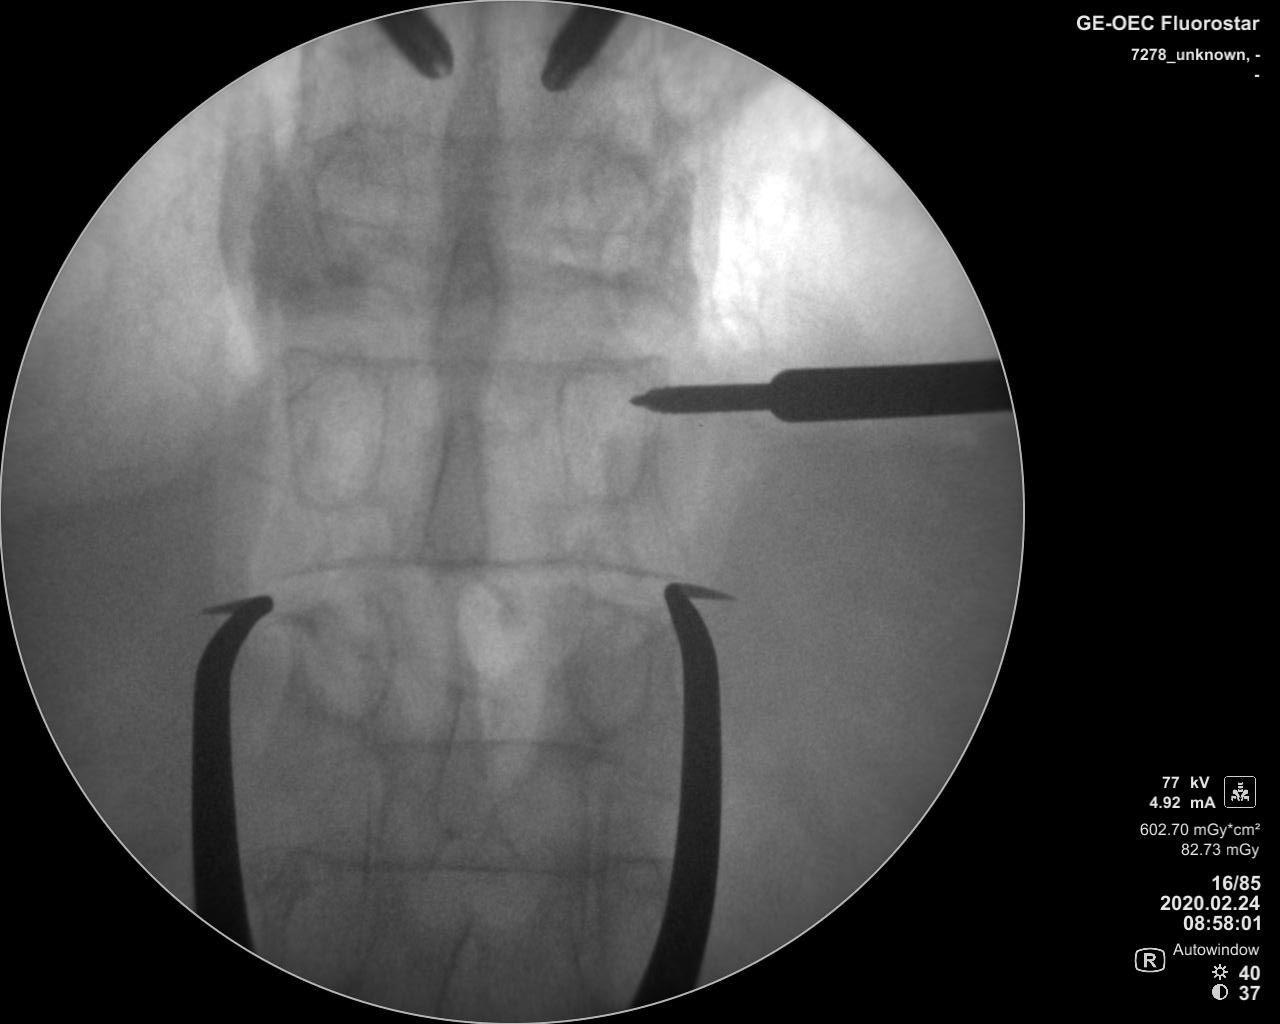eyes: (287, 372, 383, 515), (293, 595, 391, 729), (563, 602, 651, 746), (313, 144, 405, 279), (553, 367, 644, 503), (560, 149, 655, 269)
line: (312, 119, 667, 186), (272, 339, 678, 386), (263, 548, 683, 587), (283, 844, 647, 880), (308, 736, 629, 773)
nose: (417, 409, 490, 596), (436, 41, 504, 229), (432, 674, 495, 848), (435, 225, 497, 391)
